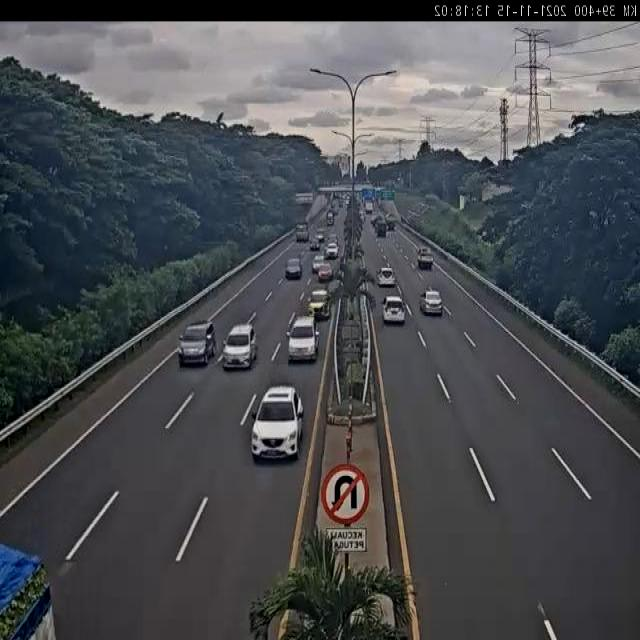Car: (250, 384, 304, 461), (178, 320, 218, 366), (221, 322, 258, 370), (287, 316, 320, 362), (382, 295, 406, 325), (419, 288, 443, 316), (376, 266, 396, 288), (285, 258, 302, 280), (417, 248, 434, 270), (312, 254, 326, 273), (295, 223, 309, 242), (325, 242, 339, 259), (354, 195, 366, 212), (310, 236, 320, 250), (316, 230, 325, 242), (365, 202, 373, 214), (358, 210, 365, 222), (332, 201, 338, 212), (339, 199, 345, 208)
Truck: (328, 227, 338, 244), (350, 192, 358, 206), (333, 192, 339, 202)
